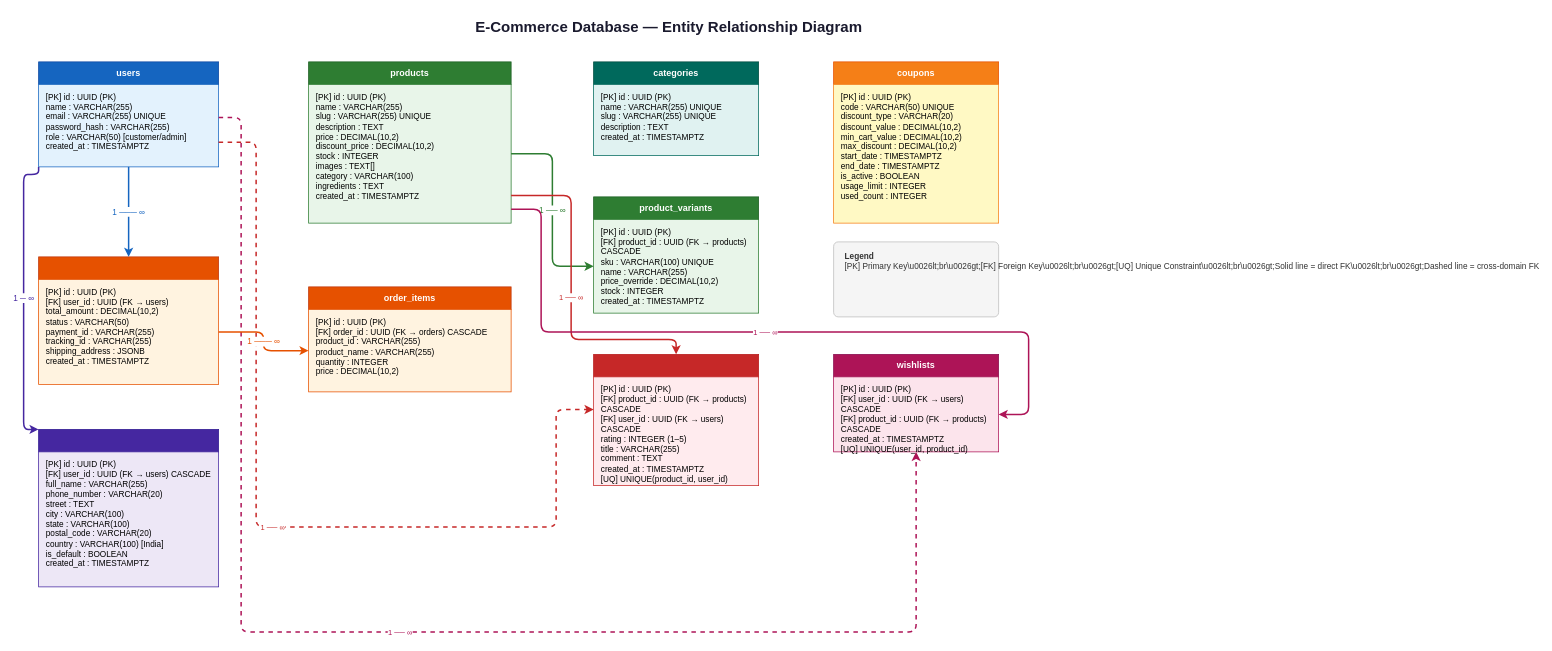
This 1552x651 diagram has some shape labels left out. The centre of each missing label's shape, as x and y in pixels:
"addresses" goes at point 128,440.
"orders" goes at point 128,267.
"reviews" goes at point 676,365.
